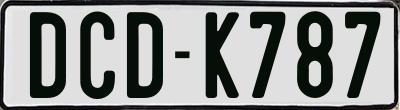7: (345, 12, 385, 101), (250, 12, 286, 104)
8: (294, 11, 332, 99)
C: (78, 10, 116, 102)
D: (29, 12, 71, 100), (126, 9, 162, 99)
K: (206, 10, 241, 99)
